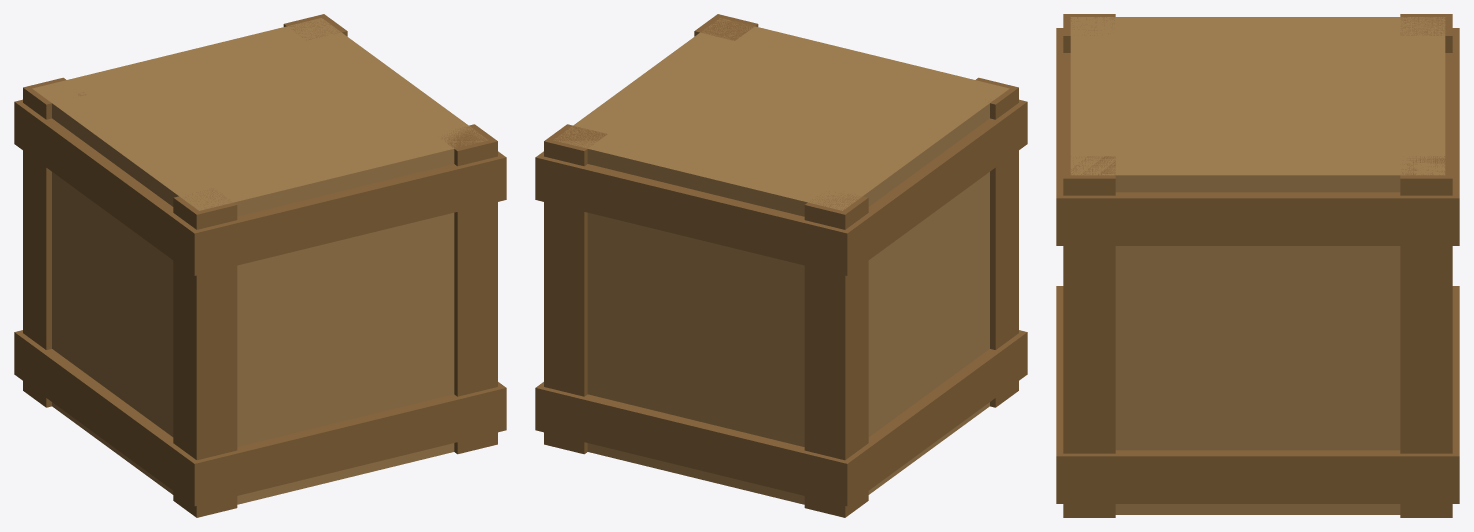
File: crate.fbx
3 views of the same model, side by side, from view 1: azimuth 30°, elevation 25°; view 2: azimuth 150°, elevation 25°; view 3: azimuth 270°, elevation 25° (orthographic). The views are drawn at different scales.
Visible parts, largest first — view 1: crate; view 2: crate; view 3: crate.
Part boxes in pixels (left/top/right/bottom): crate: left=14, top=14, right=506, bottom=517; crate: left=535, top=14, right=1027, bottom=517; crate: left=1056, top=14, right=1459, bottom=517.
Bounding box in the file's own units: 0.84 × 0.78 × 0.84.
